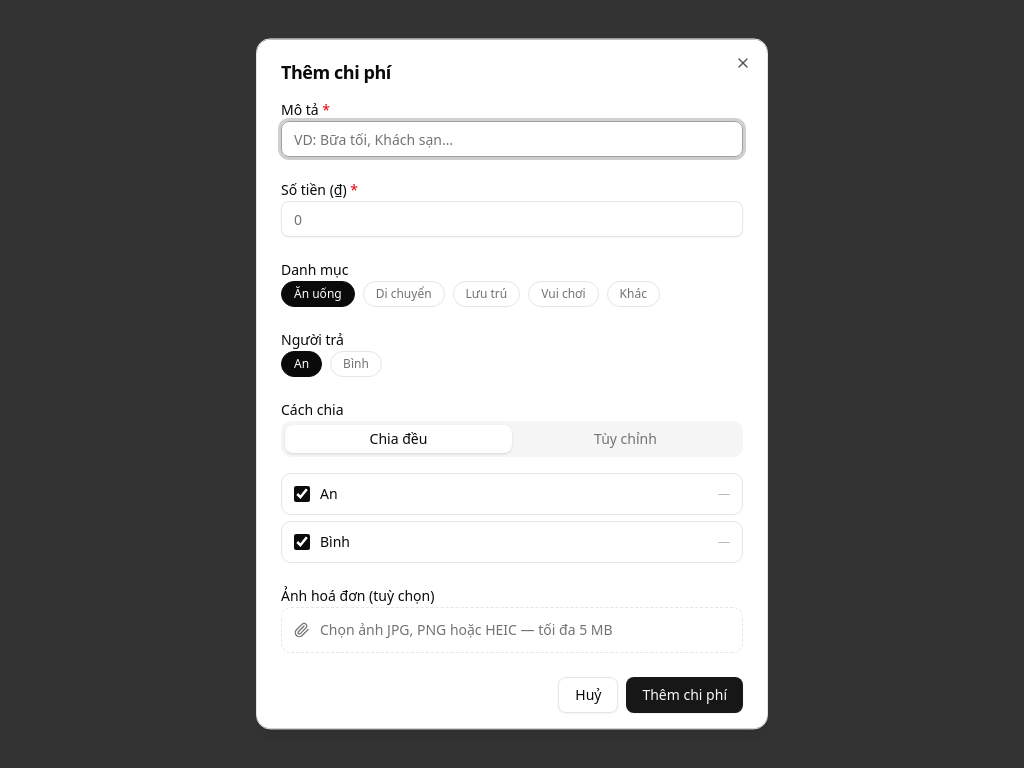
Test: AddExpenseDialog — formTouched + error derivation › shows equal-split error when all member checkboxes are unchecked
Click the checkbox labelled "An —" at (302, 494), box [294,486,310,502]
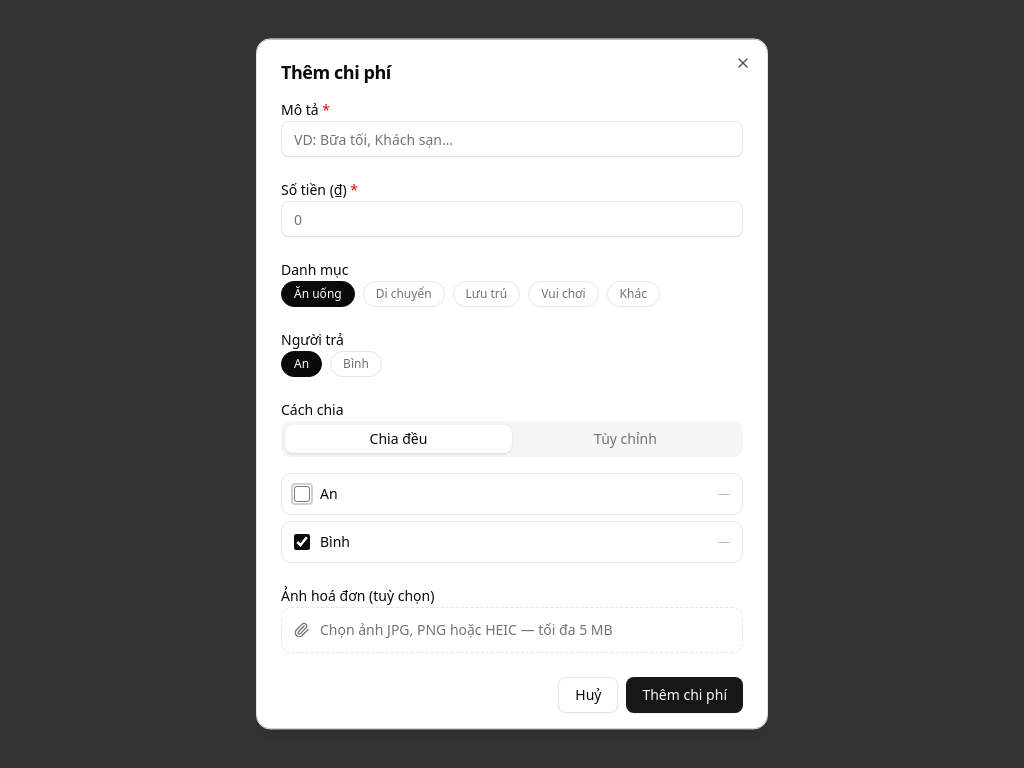
Click the checkbox labelled "Bình —" at (302, 542), box [294,534,310,550]
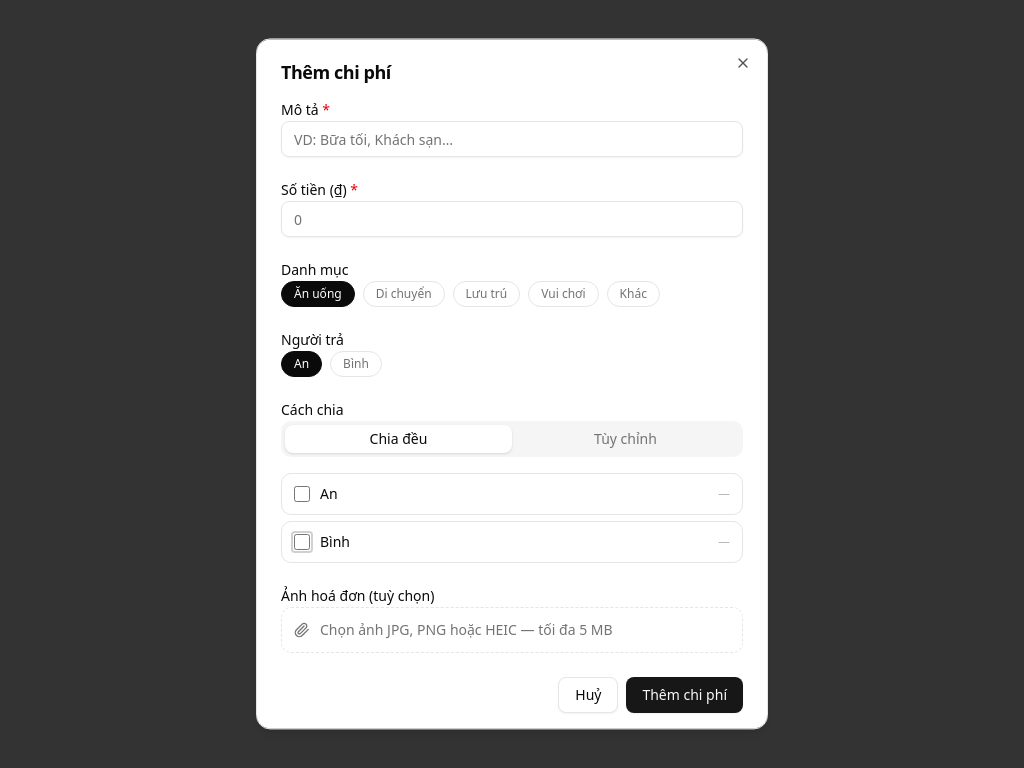
Type "Bữa tối" into the field labelled "Mô tả *" at (512, 139), box [281,121,743,157]
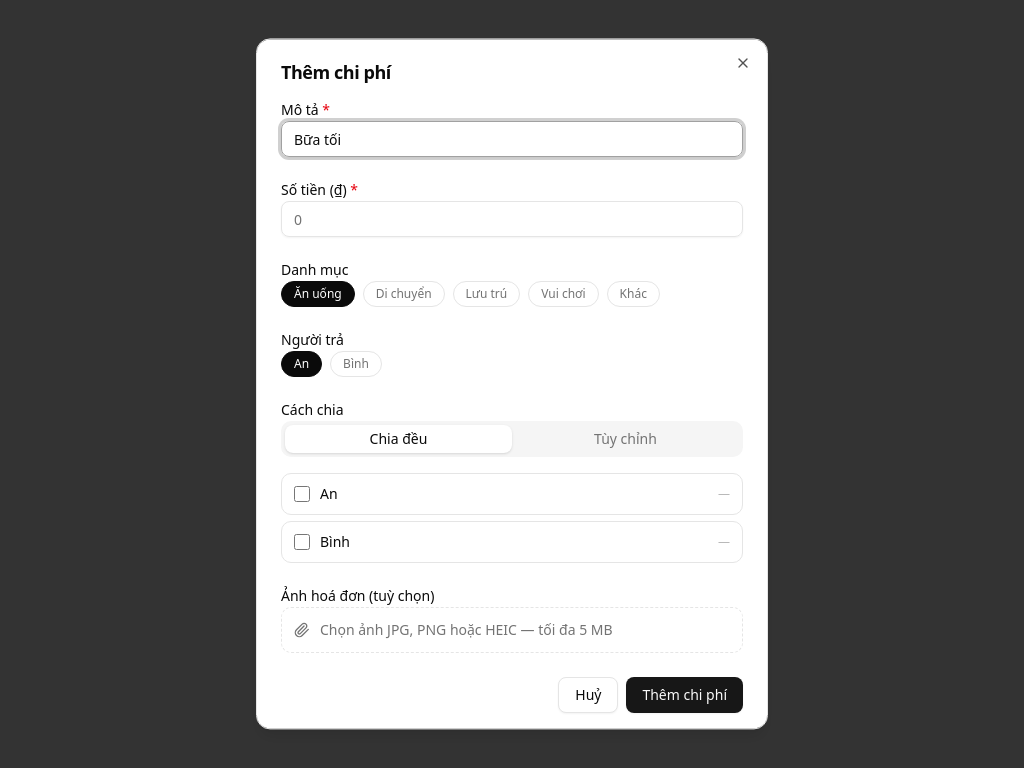
Type "50000" into the field labelled "Số tiền (₫) *" at (512, 219), box [281,201,743,237]
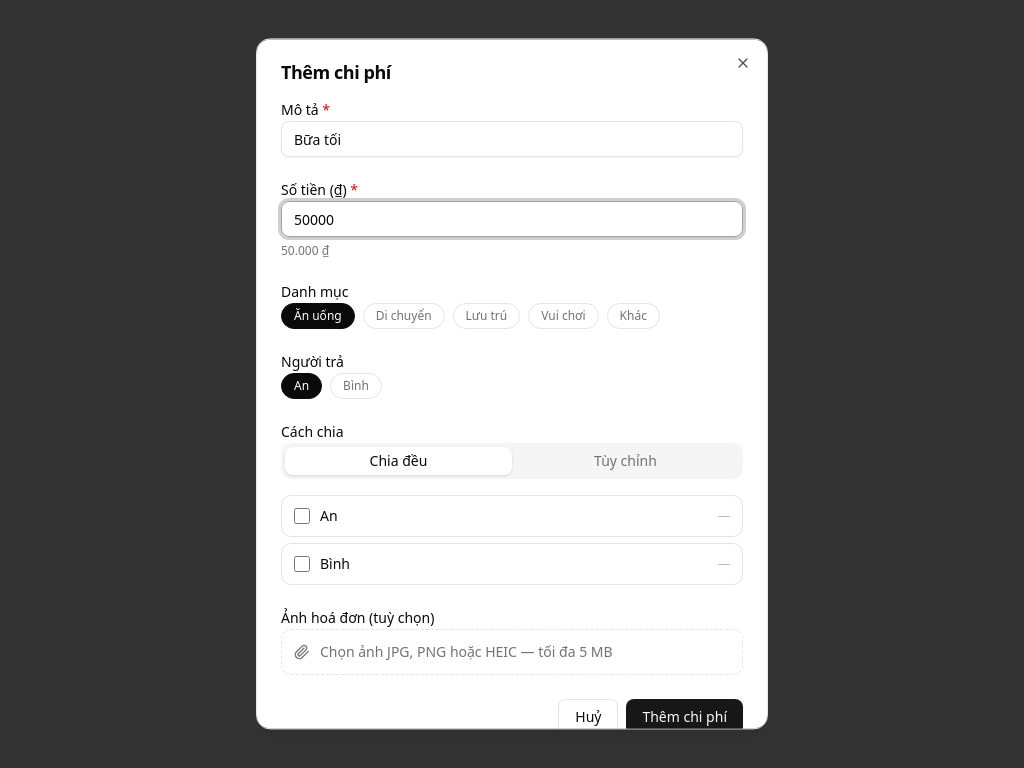
Click the button "Thêm chi phí" at (685, 717), box [626,699,743,735]
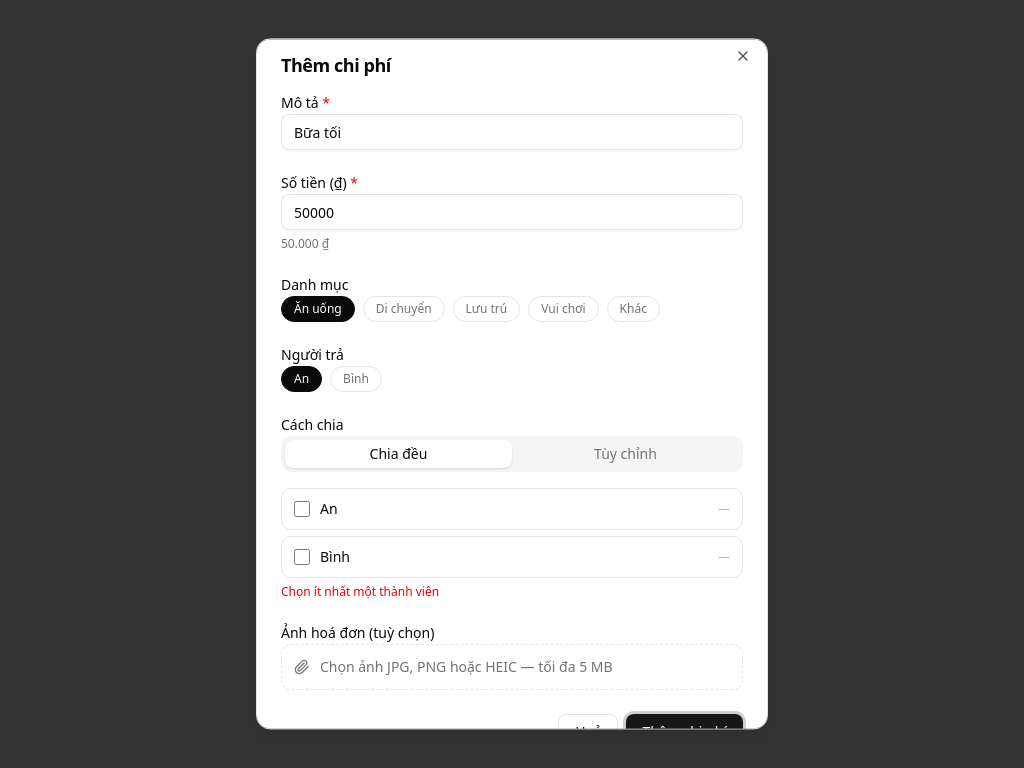
Check: the text "Chọn ít nhất một thành viên" is shown, box [281,583,439,600]
